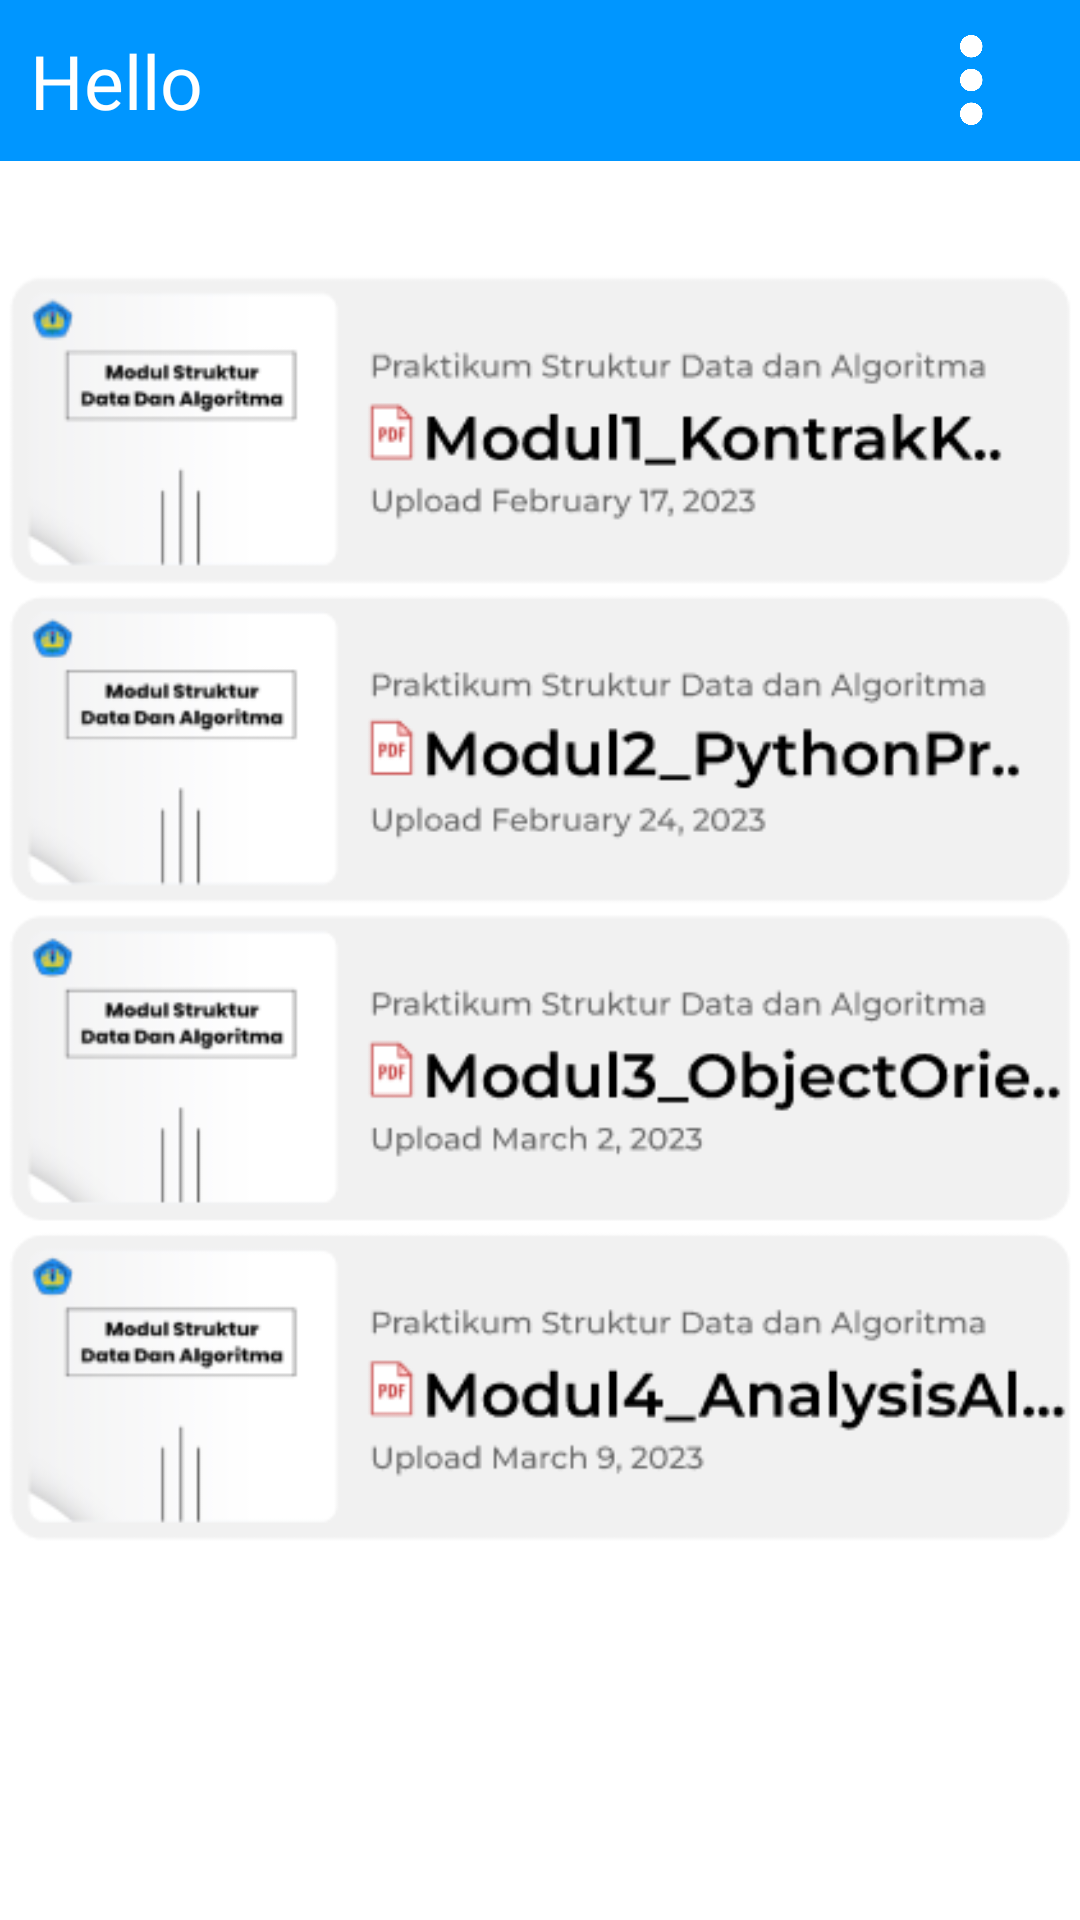

Point at icon controls on the screen. Image size 1080 x 1920, points as point (x, y).
menu: point (971, 80)
